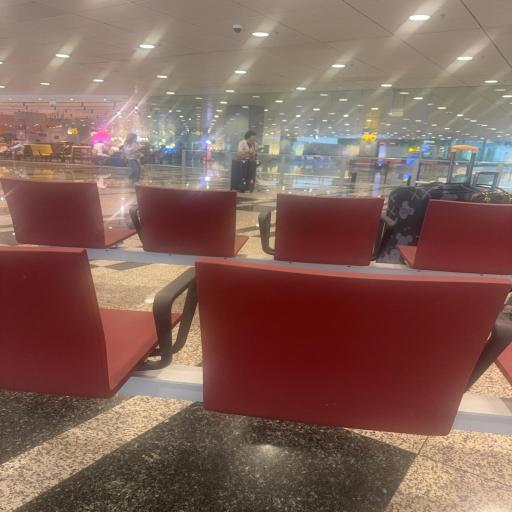person_right: (122, 132, 146, 184)
person_with_luggage_right: (230, 130, 265, 194)
